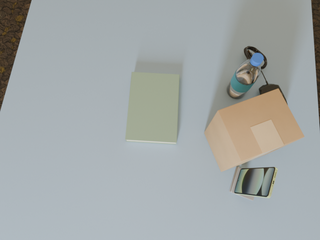book: (125, 72, 179, 144)
bottle: (227, 53, 263, 99)
box: (204, 88, 304, 172)
mouse: (259, 80, 288, 105)
phone: (235, 167, 277, 198)
